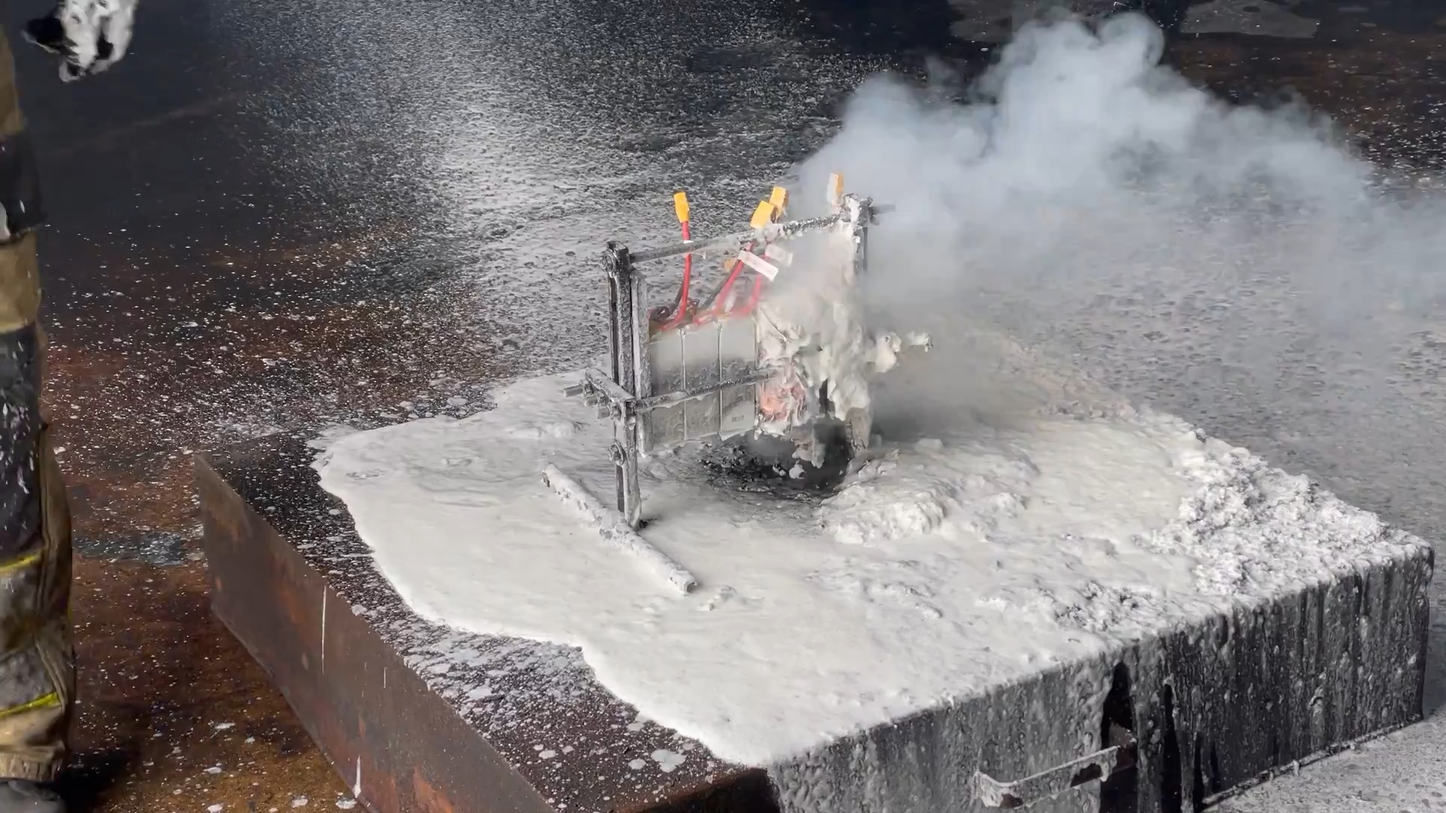smoke: (772, 9, 1446, 446)
